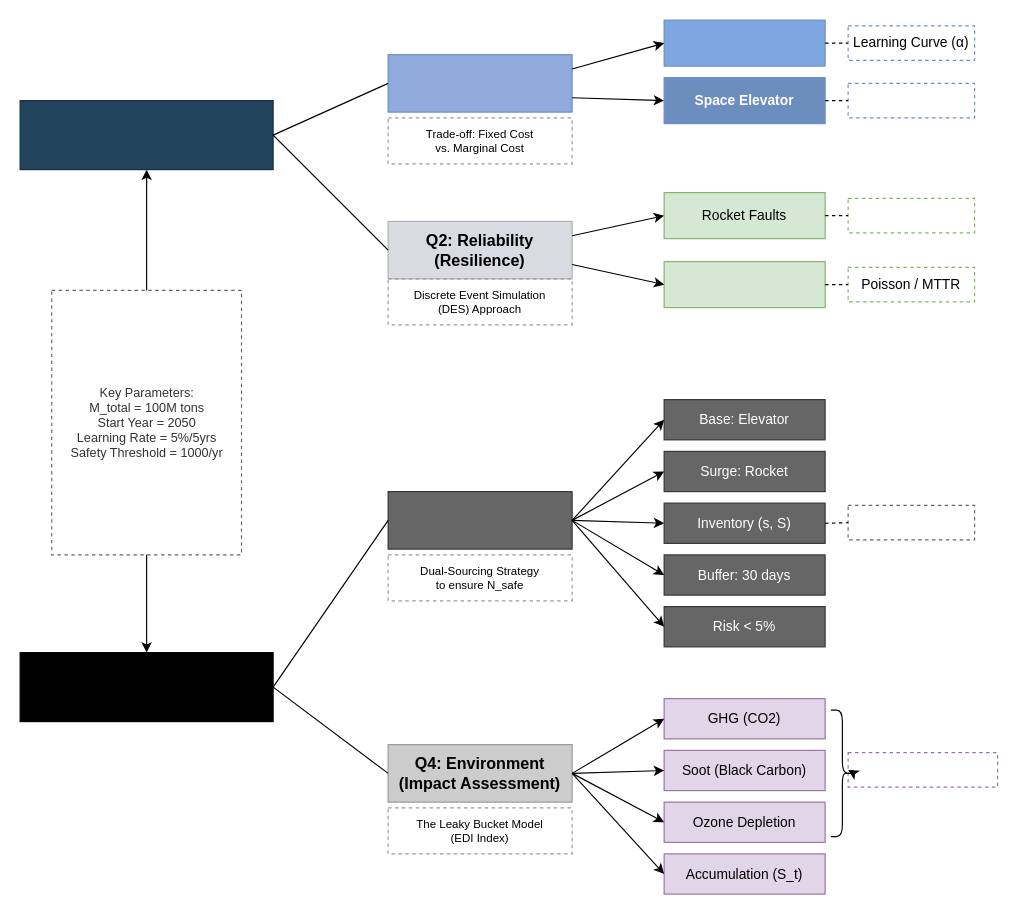
Some shapes in this 1018 by 914 pixel diagram are drawn without their labels. The shapes that lost their labels are listed below. From the top down, each one's box as (x1, y1, x2, y2) in pixels, then its label:
(663, 19, 825, 66): Rocket Mode
(387, 53, 572, 112): Q1: Infrastructure (Selection)
(847, 82, 975, 118): Break-even Point
(19, 99, 273, 170): 2050 Lunar Logistics (Antigravity)
(847, 197, 975, 233): Binomial Dist.
(663, 260, 825, 308): Elevator Faults
(387, 490, 572, 549): Q3: Supply Chain (Water Mgmt)
(847, 504, 975, 540): Dual-Sourcing
(19, 651, 273, 722): Integrated Modeling System
(847, 752, 998, 787): Environmental Damage Index (EDI)
